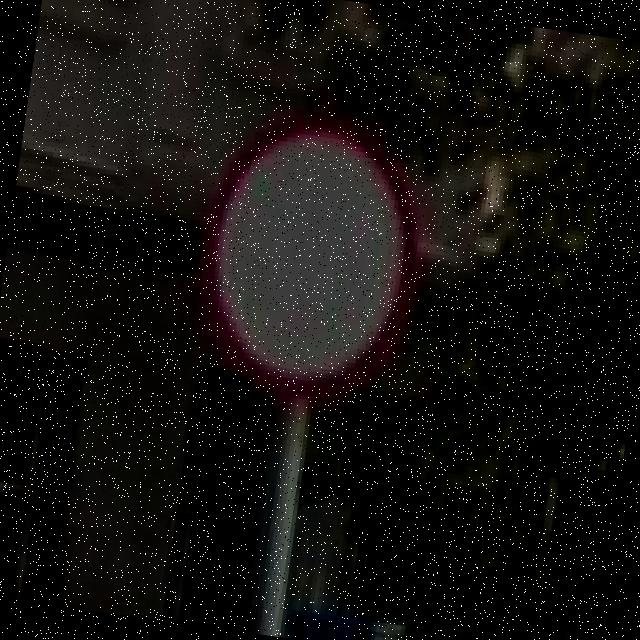Zakaz ruchu w obu kierunkach: (182, 104, 438, 414)
